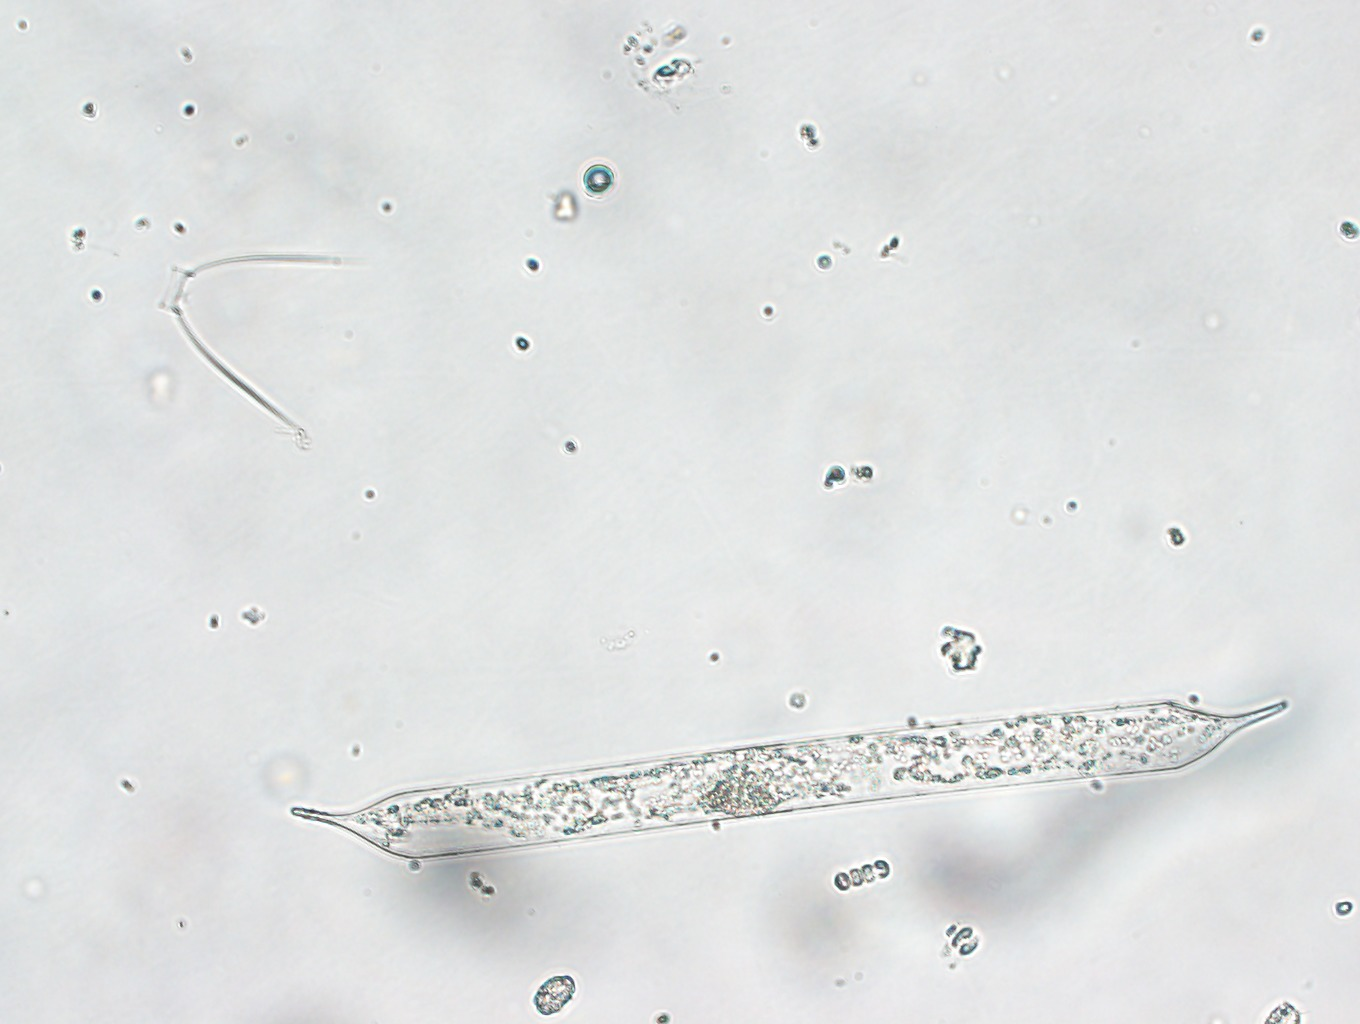rhizosolenia: (260, 693, 1307, 873)
